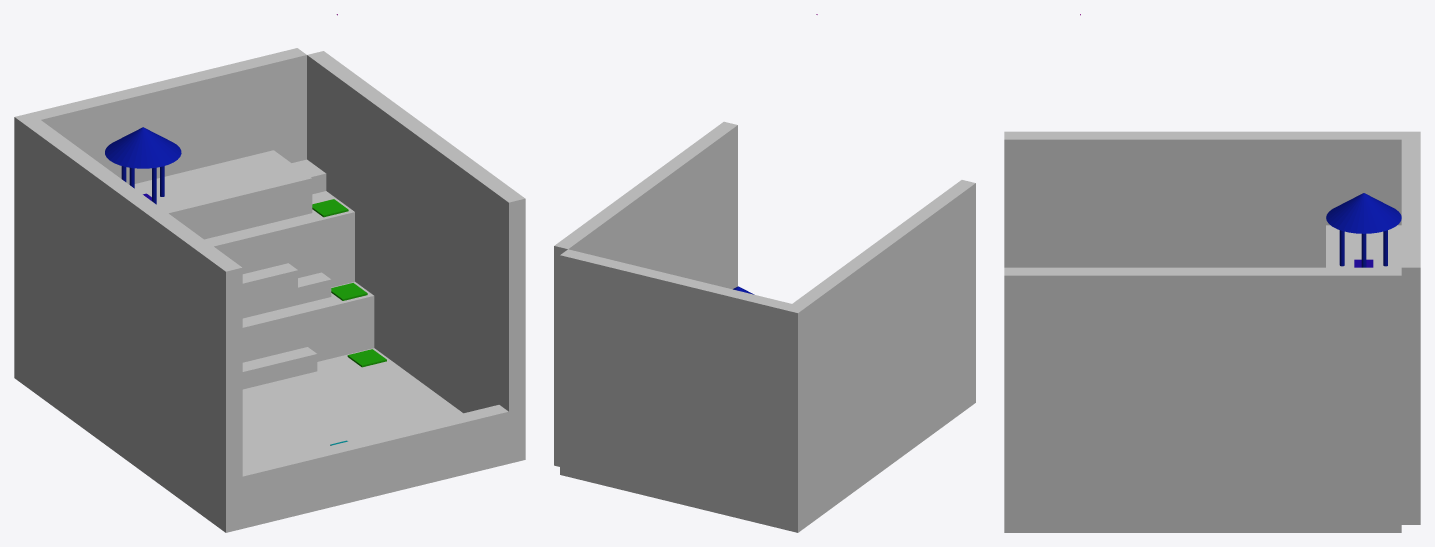
File: world.obj
3 renders of one model, left to right at view 1: azimuth 30°, elevation 25°; view 2: azimuth 150°, elevation 25°; view 3: azimuth 270°, elevation 25°, orthographic. The views are drawn at different scales.
Visible parts, largest first — view 1: Wall.006.Boundary_Cube.005, Wall.007.Boundary_Cube.004, Wall.008.Boundary_Cube.003, Wall.005.Boundary_Cube.000, Floor.006_Cube.014, Floor.015_Cube.031, Floor.005_Cube.013, Floor.014_Cube.030, Floor.012_Cube.027, Floor.008_Cube.018, Wall.104.Cone.ExitIndicator_Cone, Floor.004_Cube.012 (+2 smaller); view 2: Wall.006.Boundary_Cube.005, Wall.008.Boundary_Cube.003, Floor.011_Cube.026, Wall.007.Boundary_Cube.004, Floor.015_Cube.031; view 3: Wall.007.Boundary_Cube.004, Wall.006.Boundary_Cube.005, Wall.008.Boundary_Cube.003, Floor.011_Cube.026, Floor.015_Cube.031, Wall.104.Cone.ExitIndicator_Cone.
Boxes of the visible parts, bbox=[...] form: Wall.006.Boundary_Cube.005: bbox=[14, 113, 242, 532]; Wall.007.Boundary_Cube.004: bbox=[307, 51, 525, 463]; Wall.008.Boundary_Cube.003: bbox=[31, 48, 306, 184]; Wall.005.Boundary_Cube.000: bbox=[242, 405, 508, 528]; Floor.006_Cube.014: bbox=[242, 348, 462, 466]; Floor.015_Cube.031: bbox=[134, 150, 312, 239]; Floor.005_Cube.013: bbox=[242, 297, 340, 362]; Floor.014_Cube.030: bbox=[204, 213, 321, 277]; Floor.012_Cube.027: bbox=[282, 205, 354, 287]; Floor.008_Cube.018: bbox=[242, 263, 297, 318]; Wall.104.Cone.ExitIndicator_Cone: bbox=[105, 127, 181, 168]; Floor.004_Cube.012: bbox=[242, 347, 317, 389]; Wall.006.Boundary_Cube.005: bbox=[784, 180, 975, 532]; Wall.008.Boundary_Cube.003: bbox=[560, 249, 791, 528]; Floor.011_Cube.026: bbox=[560, 358, 783, 529]; Wall.007.Boundary_Cube.004: bbox=[554, 121, 737, 466]; Floor.015_Cube.031: bbox=[588, 335, 783, 412]; Wall.007.Boundary_Cube.004: bbox=[1004, 267, 1401, 532]; Wall.006.Boundary_Cube.005: bbox=[1004, 131, 1420, 267]; Wall.008.Boundary_Cube.003: bbox=[1401, 139, 1420, 524]; Floor.011_Cube.026: bbox=[1401, 387, 1420, 524]; Floor.015_Cube.031: bbox=[1326, 225, 1401, 267]; Wall.104.Cone.ExitIndicator_Cone: bbox=[1326, 193, 1401, 233].
Size of what is drawn, in the model's own units: 18 by 26.05 by 22.
